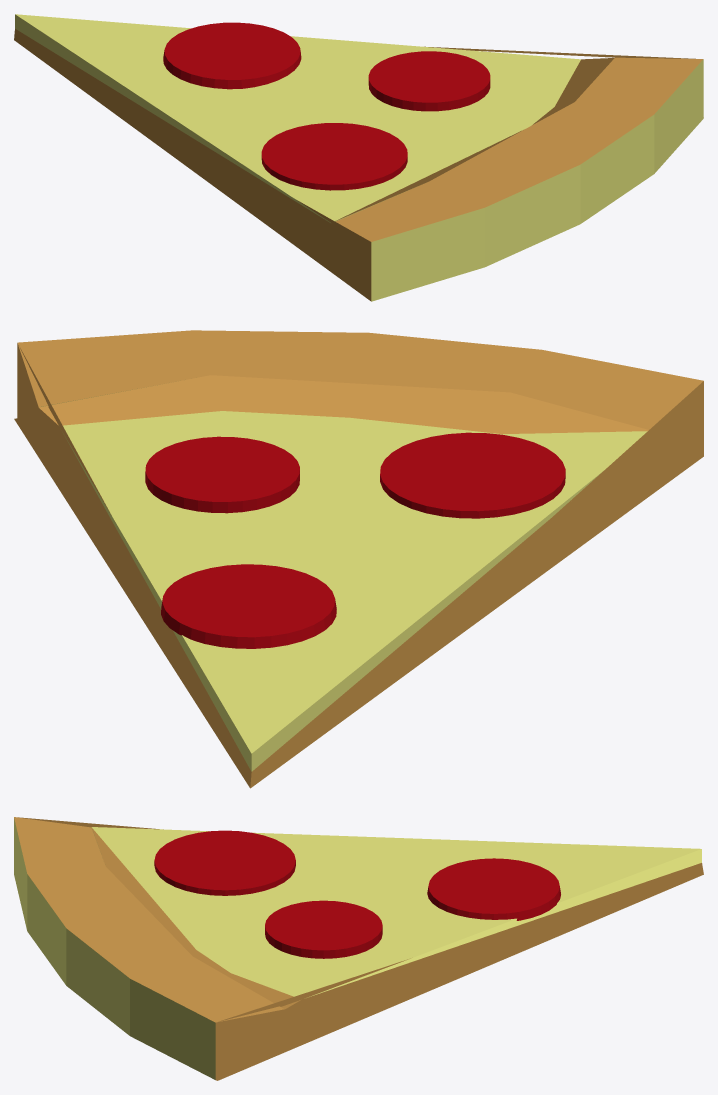
Rendered from Pizza_slice.gltf.
3 views of the same model, one above another, from view 1: azimuth 30°, elevation 25°; view 2: azimuth 150°, elevation 25°; view 3: azimuth 270°, elevation 25° (orthographic). The views are drawn at different scales.
Visible parts, largest first — view 1: Cylinder.001; view 2: Cylinder.001; view 3: Cylinder.001.
Boxes of the visible parts, box(x1,y1,x2,y2) form: Cylinder.001: box(14, 14, 703, 301); Cylinder.001: box(14, 330, 703, 788); Cylinder.001: box(14, 817, 703, 1080).
Bounding box in the file's own units: 0.7097 × 0.0924 × 1.
